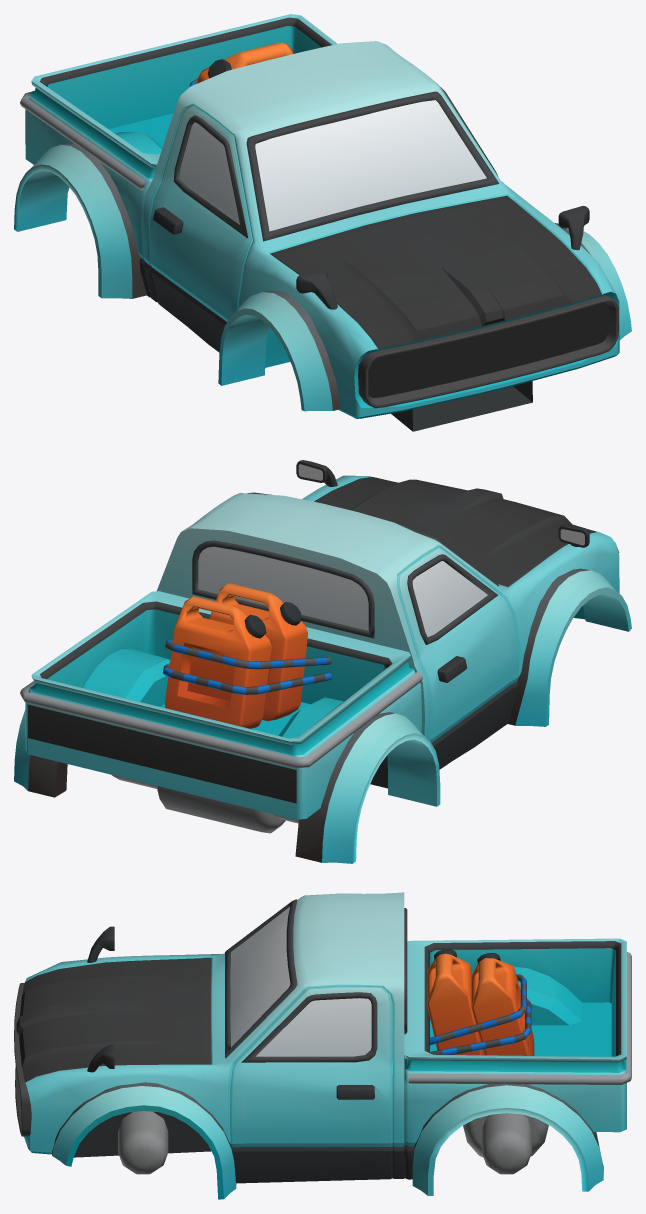
Rendered from Car_04.fbx.
3 renders of one model, top to bottom at view 1: azimuth 30°, elevation 25°; view 2: azimuth 150°, elevation 25°; view 3: azimuth 270°, elevation 25°, orthographic. The views are drawn at different scales.
Visible parts, largest first — view 1: Car_04; view 2: Car_04; view 3: Car_04.
Part boxes in pixels (x1=…): Car_04: x1=14, y1=14, x2=631, y2=431; Car_04: x1=14, y1=460, x2=631, y2=863; Car_04: x1=14, y1=892, x2=631, y2=1199.
Size of the model in its own units: 234 by 403 by 154.
